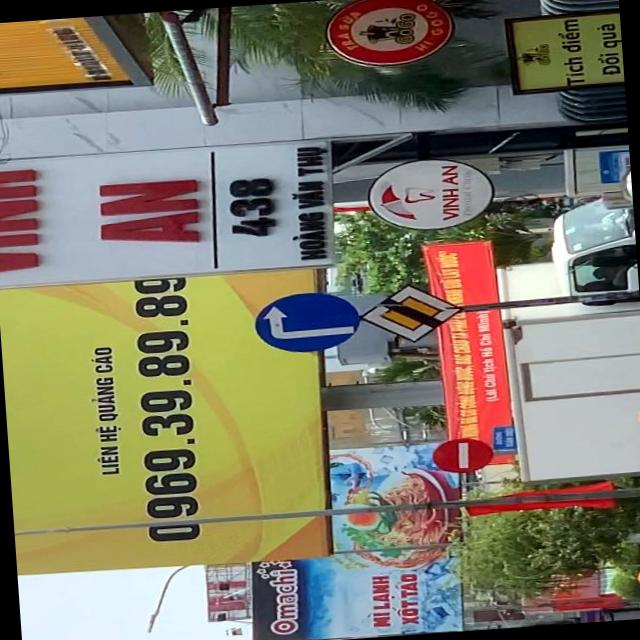P-102: (428, 438, 494, 472)
R-301d: (250, 288, 362, 354)
